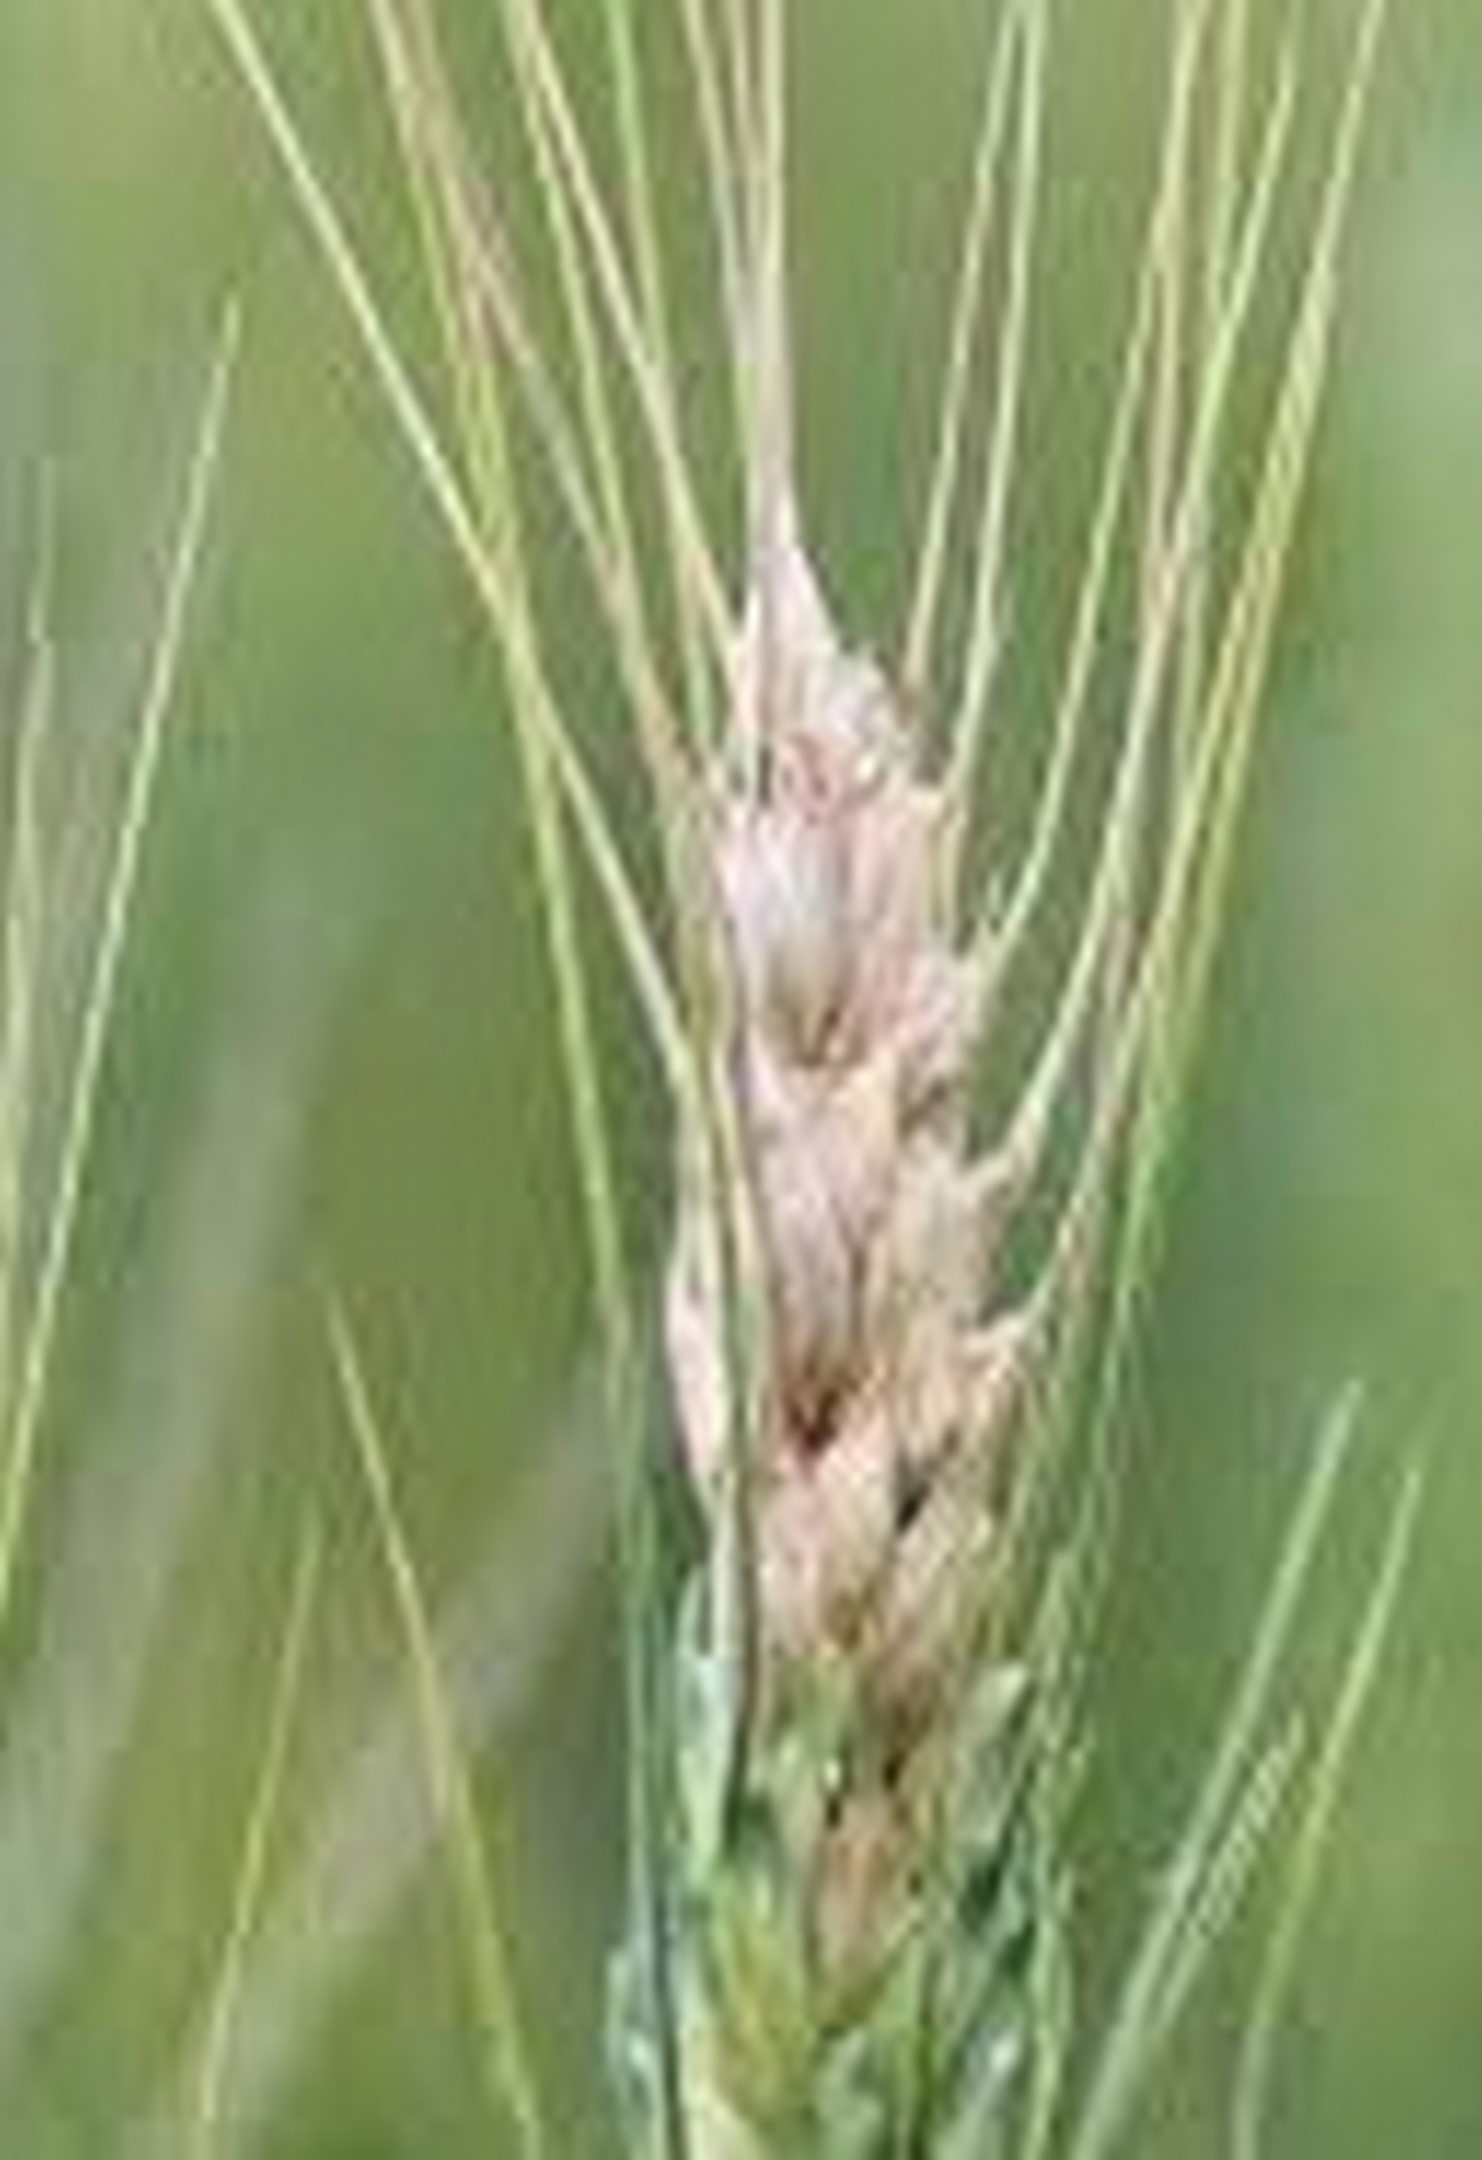Wheat scab: (574, 551, 1103, 2147)
